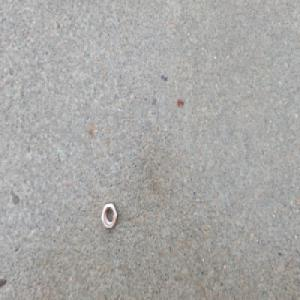Nut: (100, 202, 118, 231)
